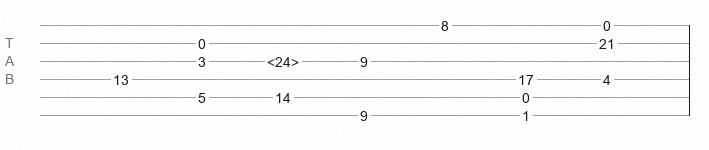0: (198, 36, 206, 46), (522, 90, 530, 100), (603, 18, 611, 28)
1: (522, 108, 530, 118)
13: (113, 72, 129, 82)
14: (275, 90, 291, 100)
17: (518, 72, 534, 82)
21: (599, 36, 615, 46)
3: (198, 54, 206, 64)
4: (603, 72, 611, 82)
5: (198, 90, 206, 100)
8: (441, 18, 449, 28)
9: (360, 108, 368, 118), (360, 54, 368, 64)
harmonic: (267, 54, 299, 64)
